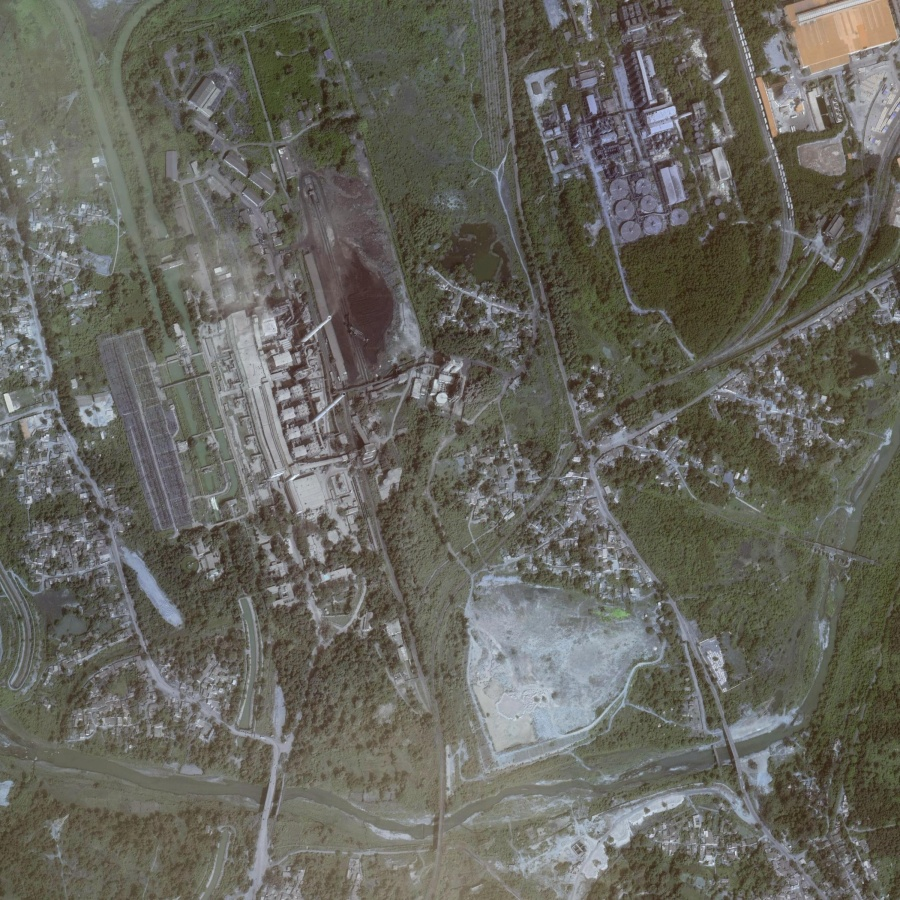PowerPlant: (207, 160, 404, 458)
